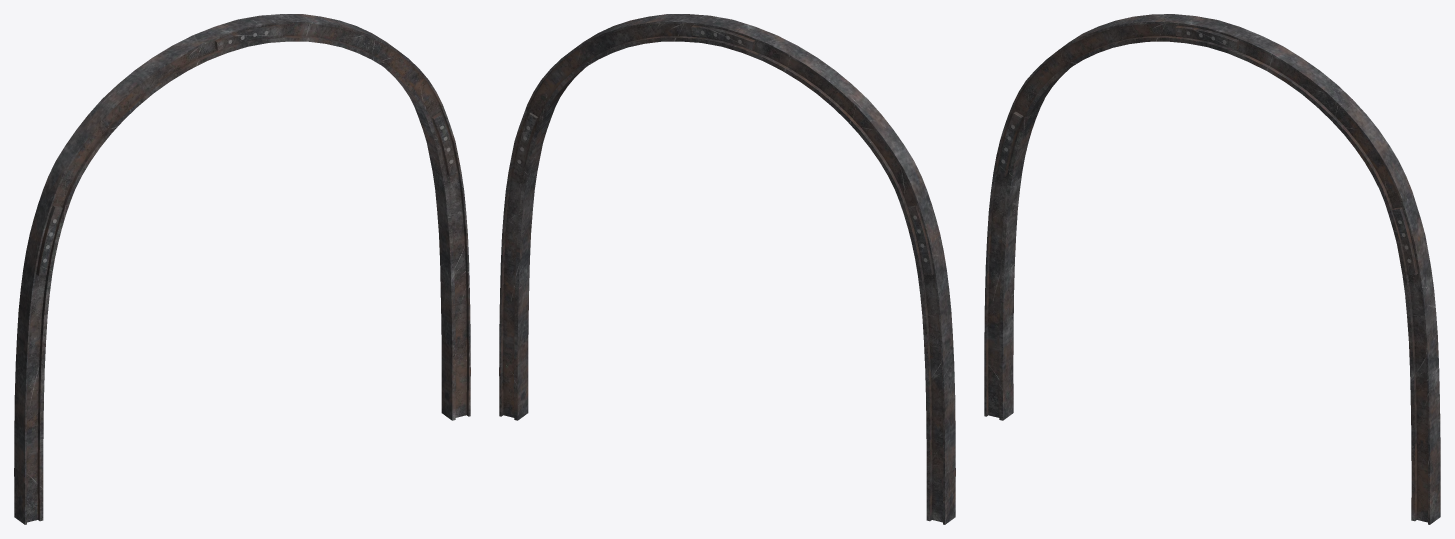
Rendered from SteelSupportAA.glb.
The picture shows the model from 3 angles, left to right: view 1: azimuth 30°, elevation 25°; view 2: azimuth 150°, elevation 25°; view 3: azimuth 330°, elevation 25°; orthographic projection.
Parts seen in each view (by area): view 1: SteelSupportAA; view 2: SteelSupportAA; view 3: SteelSupportAA.
Boxes of the visible parts, x1,y1,x2,y2 form: SteelSupportAA: (14, 14, 470, 524); SteelSupportAA: (499, 14, 955, 524); SteelSupportAA: (984, 14, 1440, 524).
Bounding box in the file's own units: 2.71 × 2.57 × 0.1246.
Materials: 1 (1 with a texture image).
